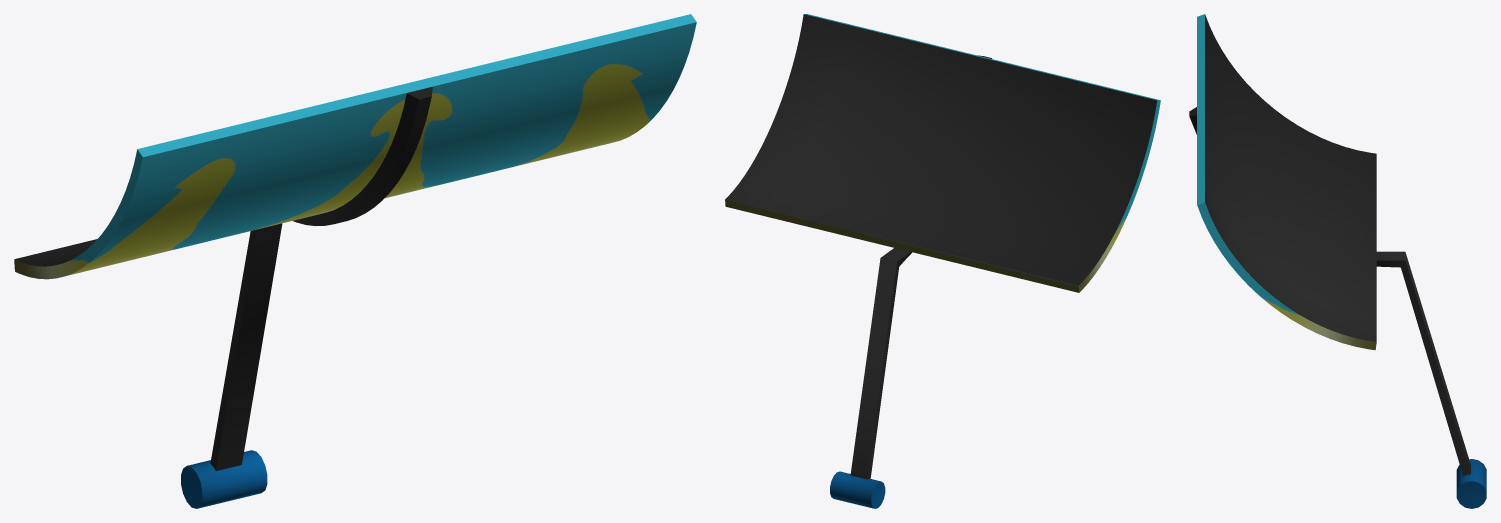
The model's file is ArcticChompScoop_simplifiedScoopCollider.fbx.
3 renders of one model, left to right at view 1: azimuth 30°, elevation 25°; view 2: azimuth 150°, elevation 25°; view 3: azimuth 270°, elevation 25°, orthographic. The views are drawn at different scales.
Parts seen in each view (by area): view 1: Paddle_Board; view 2: Paddle_Board; view 3: Paddle_Board.
Boxes of the visible parts, x1=… form: Paddle_Board: x1=14, y1=14, x2=696, y2=508; Paddle_Board: x1=725, y1=14, x2=1160, y2=508; Paddle_Board: x1=1189, y1=14, x2=1486, y2=508.
Size of the model in its own units: 30 by 28.9 by 20.02.
